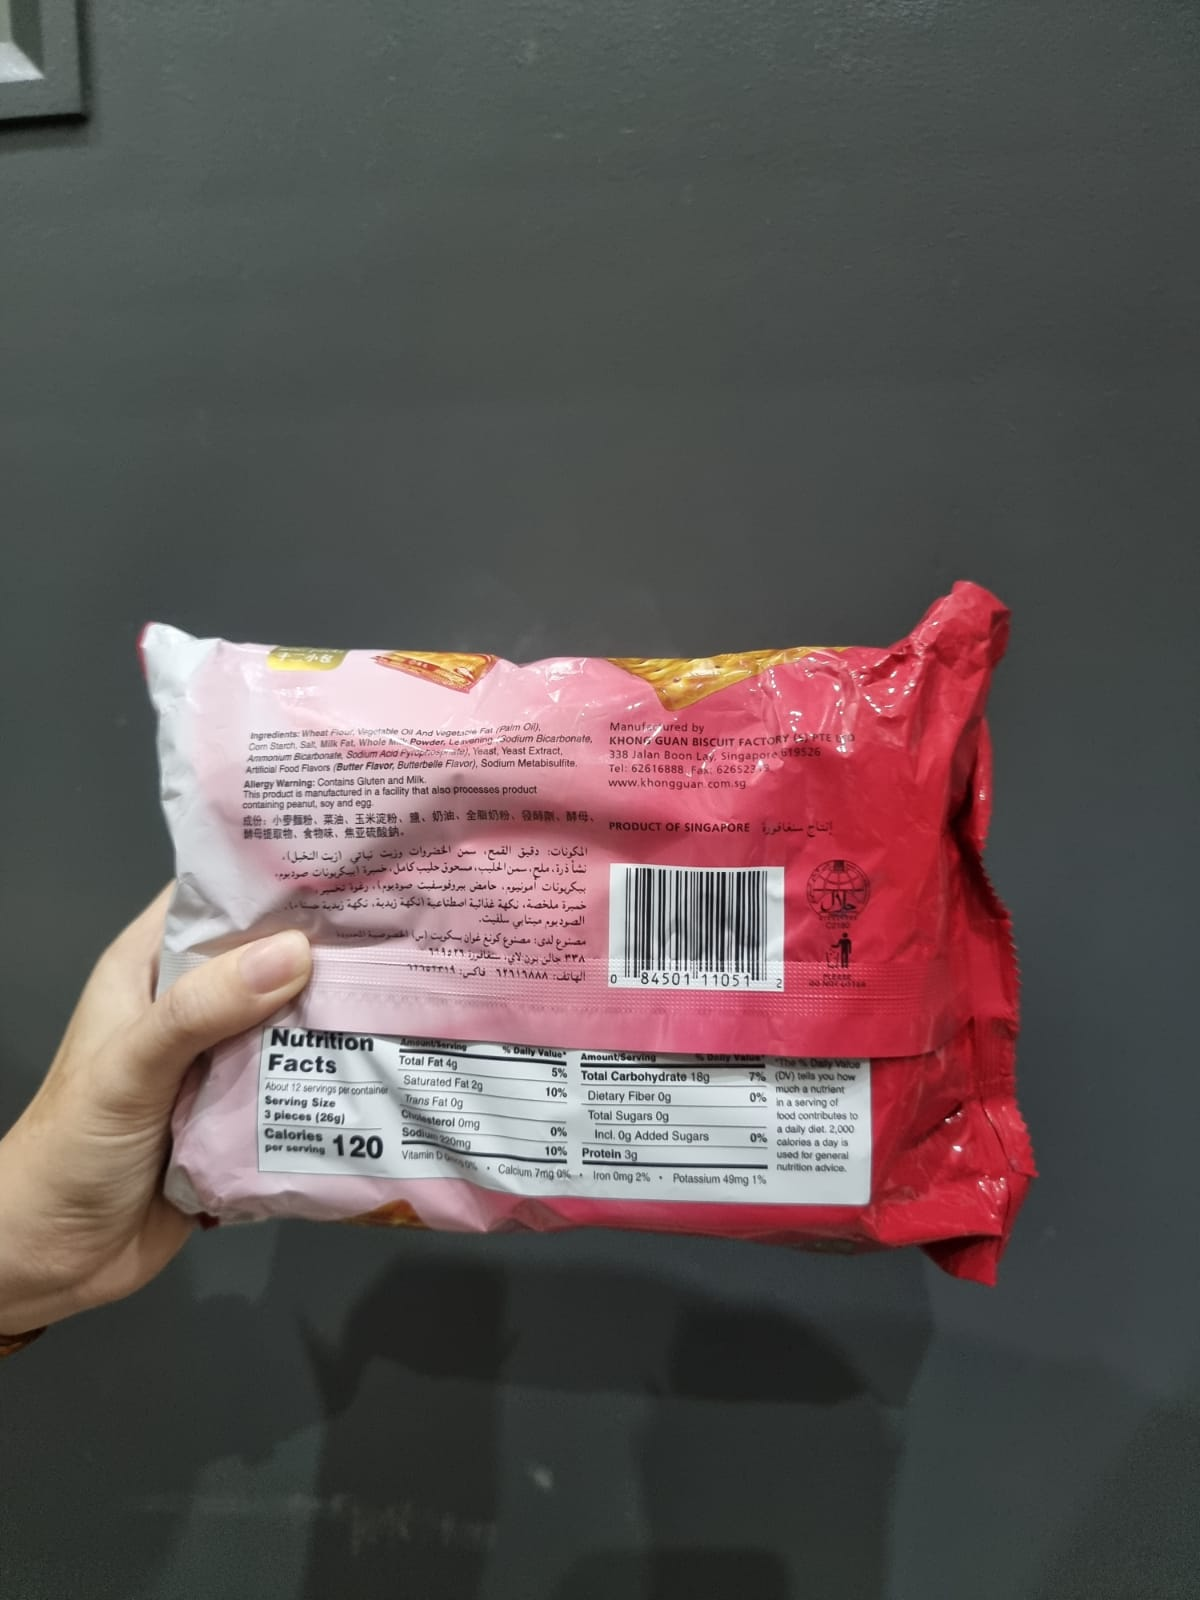Biscuits: (180, 653, 986, 1233)
